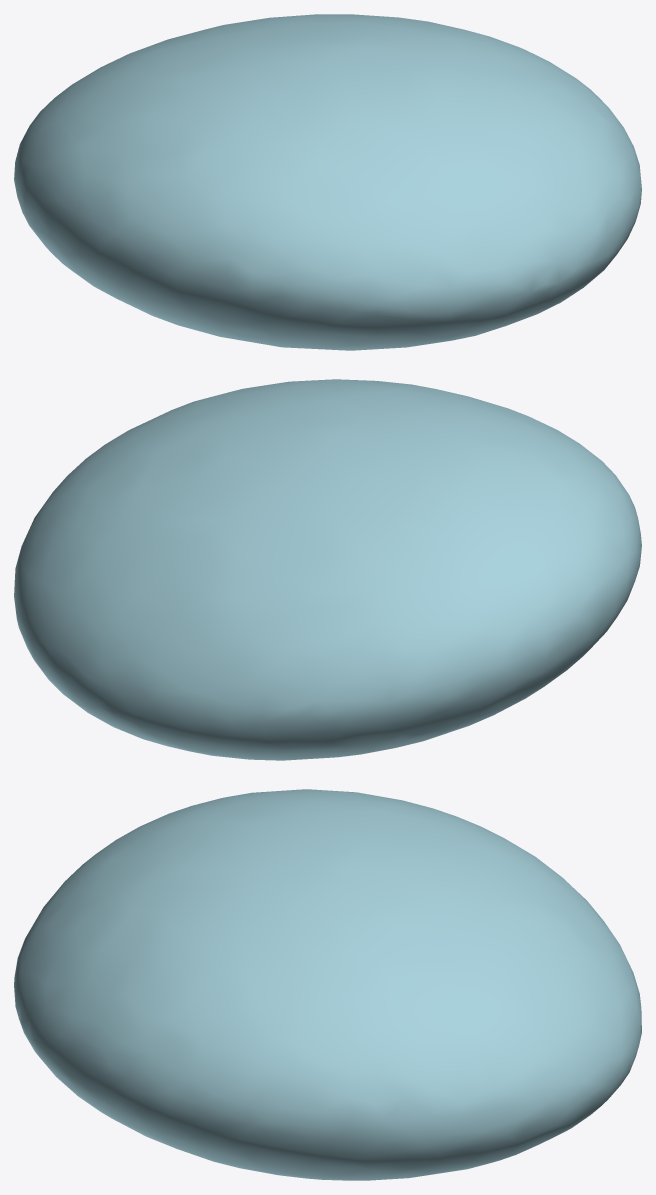
The picture shows the model from 3 angles, top to bottom: view 1: azimuth 30°, elevation 25°; view 2: azimuth 150°, elevation 25°; view 3: azimuth 270°, elevation 25°; orthographic projection.
Parts seen in each view (by area): view 1: 右侧晶状体; view 2: 右侧晶状体; view 3: 右侧晶状体.
Boxes of the visible parts, bbox=[...] form: 右侧晶状体: bbox=[14, 14, 641, 350]; 右侧晶状体: bbox=[14, 379, 641, 760]; 右侧晶状体: bbox=[14, 789, 641, 1180].
Bounding box in the file's own units: 0.0152 × 0.00709 × 0.0153.
